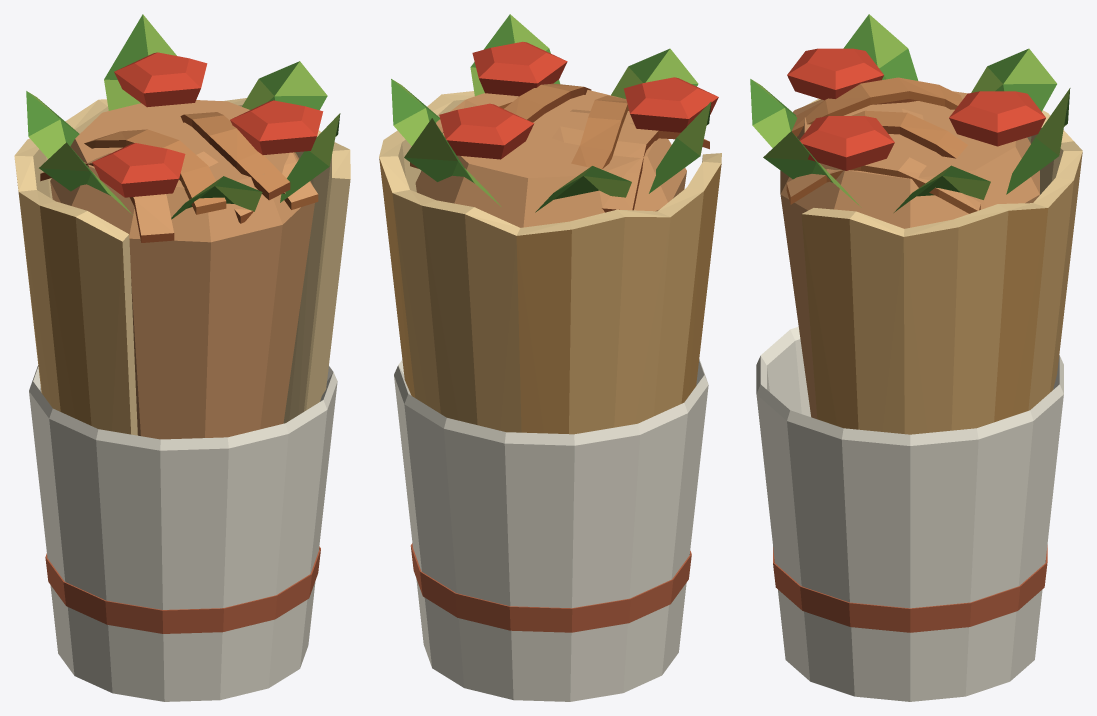
File: doner-wrap.glb
3 renders of one model, left to right at view 1: azimuth 30°, elevation 25°; view 2: azimuth 150°, elevation 25°; view 3: azimuth 270°, elevation 25°, orthographic.
Parts seen in each view (by area): view 1: Doner wrap; view 2: Doner wrap; view 3: Doner wrap.
Boxes of the visible parts, x1=… form: Doner wrap: x1=14, y1=14, x2=350, y2=701; Doner wrap: x1=379, y1=14, x2=721, y2=701; Doner wrap: x1=750, y1=14, x2=1082, y2=701.
Bounding box in the file's own units: 0.1619 × 0.3 × 0.1561.
